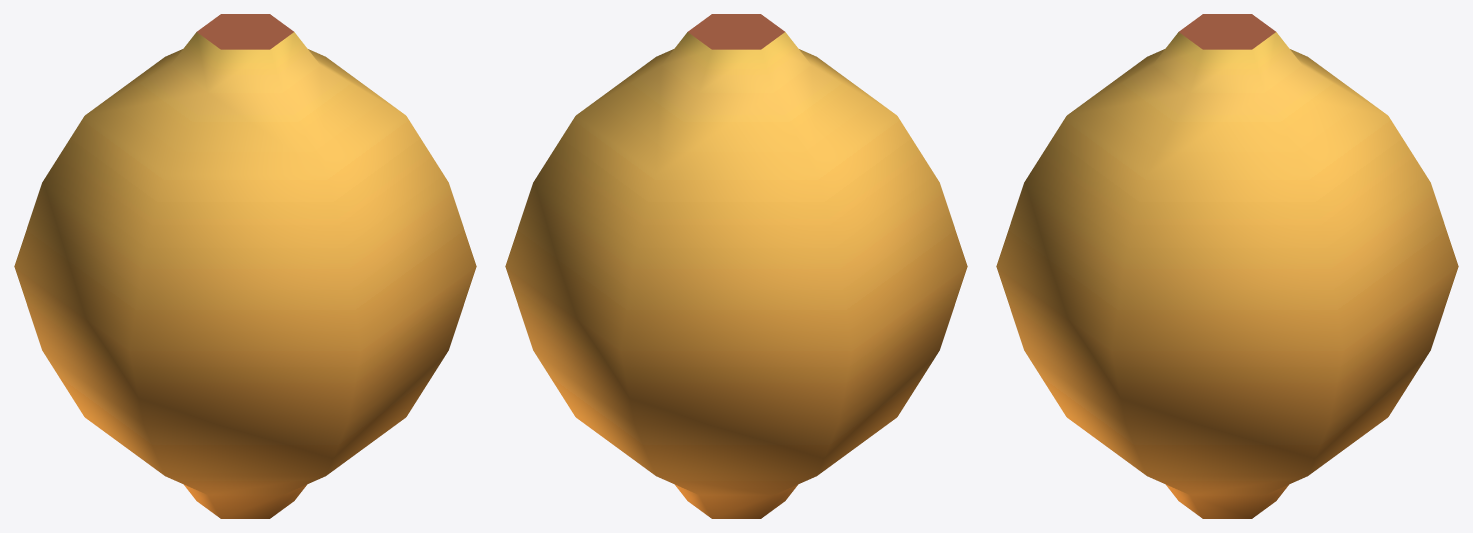
File: lemon.glb
3 views of the same model, side by side, from view 1: azimuth 30°, elevation 25°; view 2: azimuth 150°, elevation 25°; view 3: azimuth 270°, elevation 25° (orthographic).
Parts seen in each view (by area): view 1: lemon; view 2: lemon; view 3: lemon.
Boxes of the visible parts, box(x1,y1,x2,y2) form: lemon: box(14, 14, 476, 518); lemon: box(505, 14, 967, 518); lemon: box(996, 14, 1458, 518).
Bounding box in the file's own units: 0.1732 × 0.224 × 0.2.
1 material, 1 textured.
